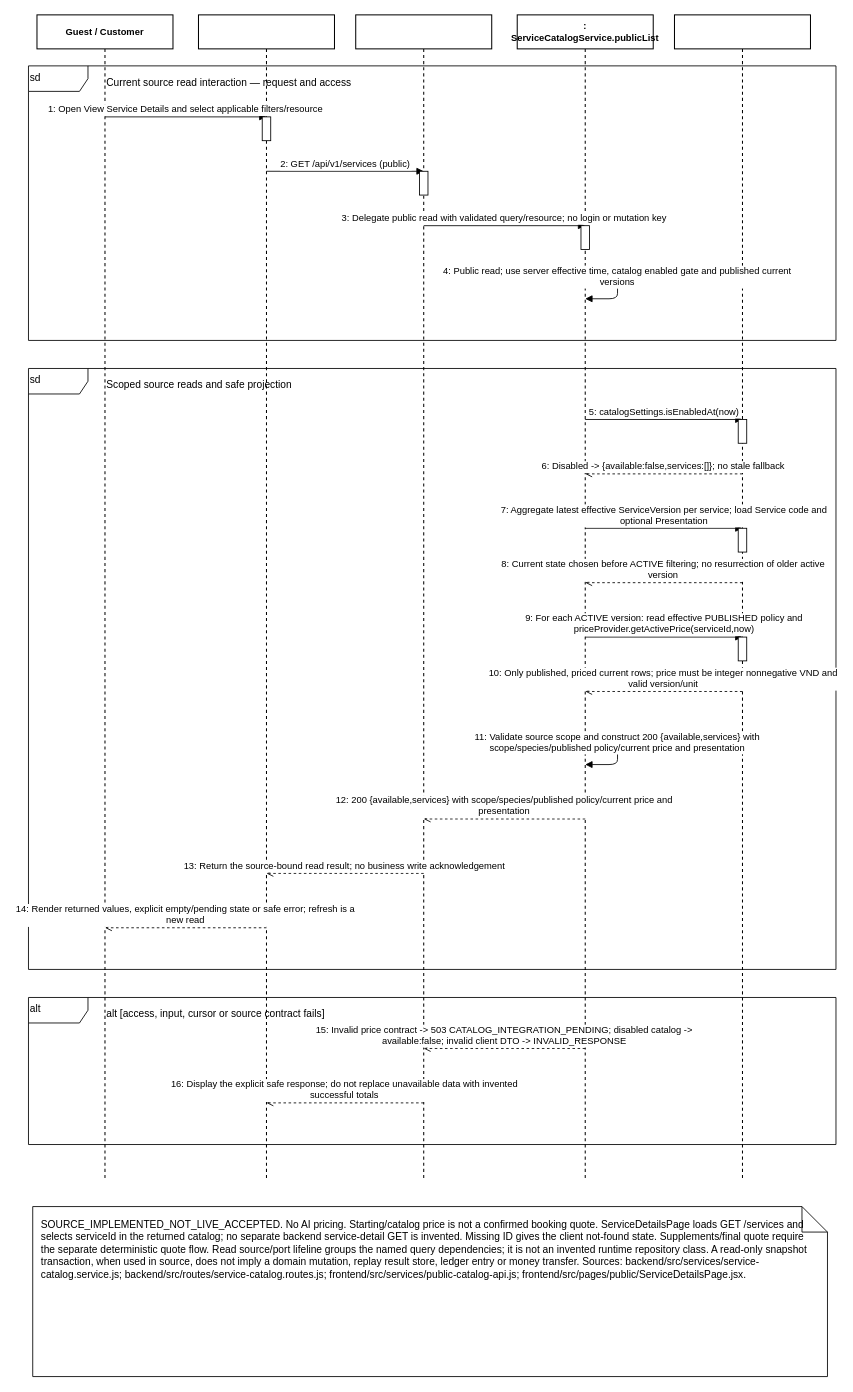
Some shapes in this 853 by 1392 pixel diagram are drawn without their labels. Each missing label, with the box of its shape:
: Client view: (198, 14, 335, 1181)
: Read source / injected port: (674, 14, 811, 1181)
: ServiceCatalogController: (355, 14, 492, 1181)
